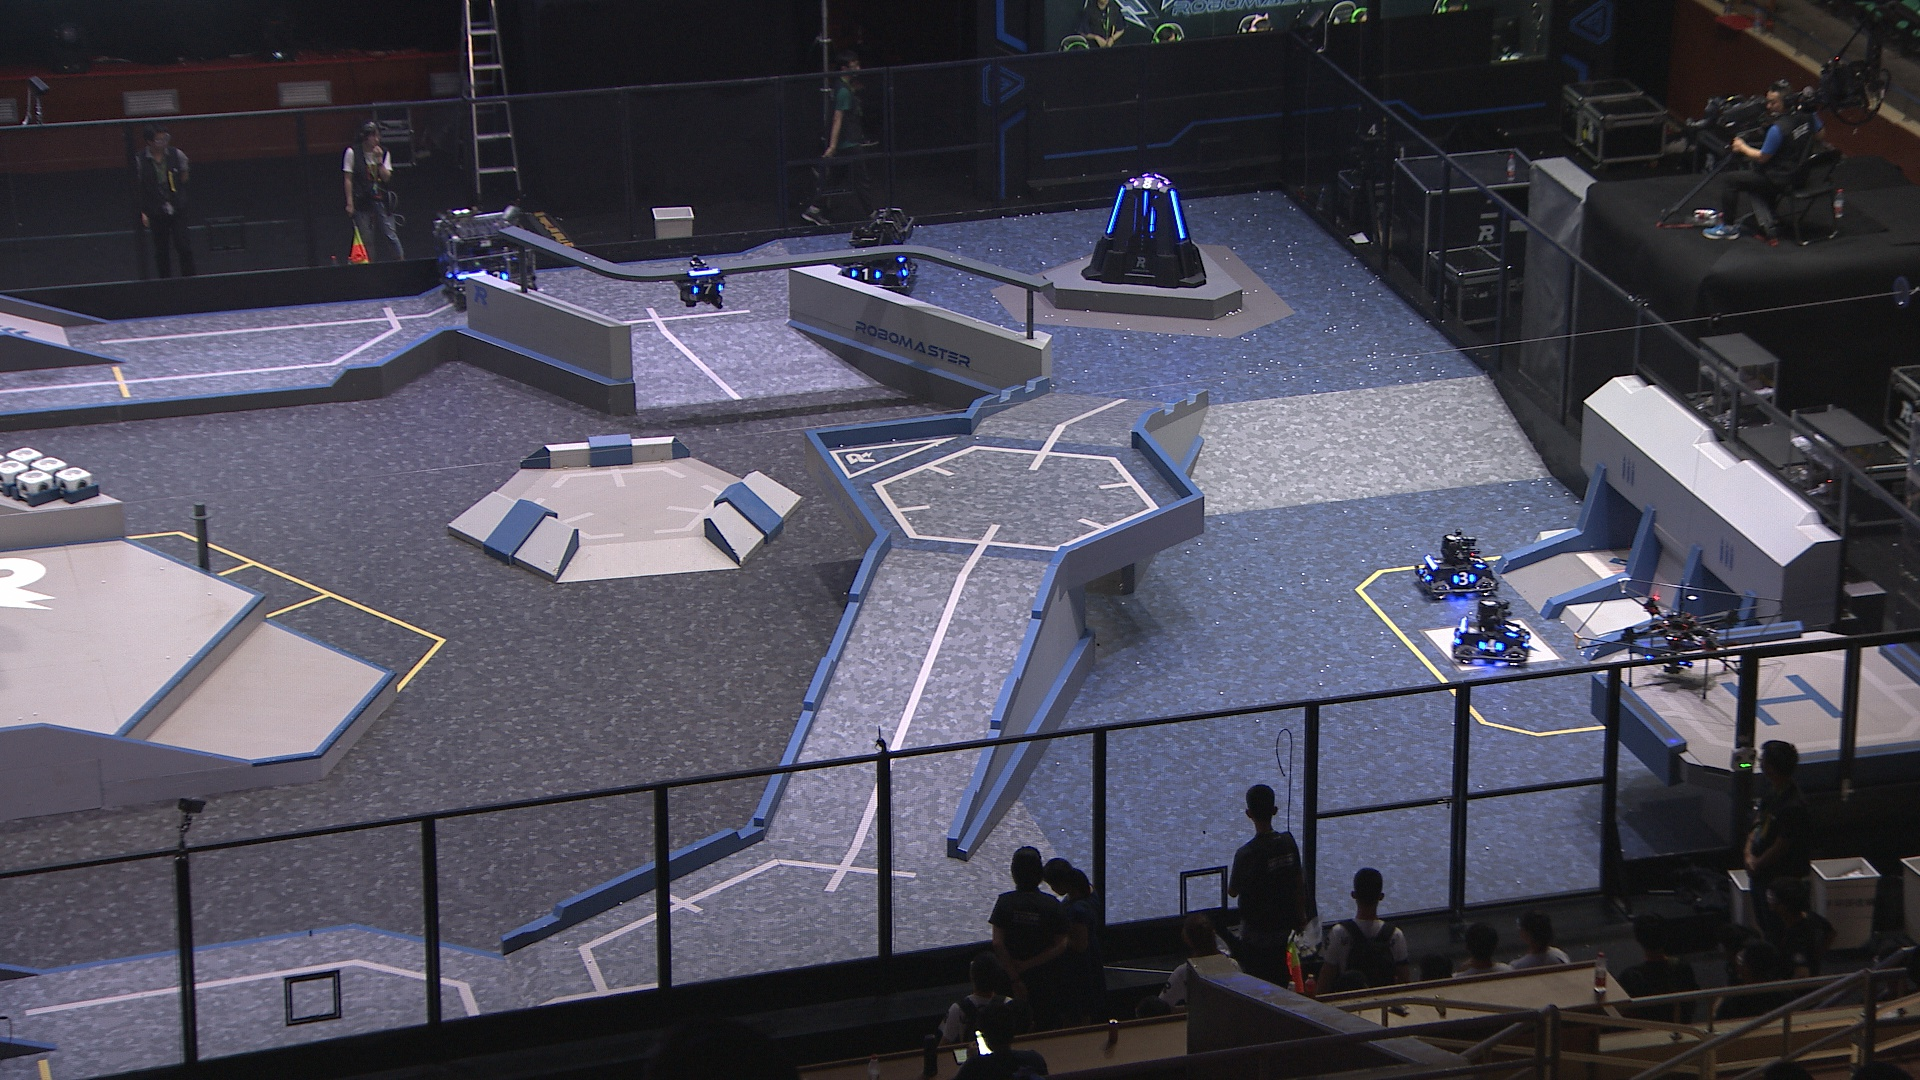armor: (1168, 189, 1185, 239), (847, 264, 884, 281), (1476, 637, 1503, 655), (485, 268, 510, 286), (1451, 570, 1477, 585), (692, 281, 723, 294), (1468, 553, 1485, 570), (1505, 618, 1519, 637), (1139, 190, 1149, 219), (1147, 204, 1156, 233), (1416, 566, 1429, 584), (899, 258, 913, 276), (442, 266, 456, 281)
base: (1077, 166, 1205, 291)
car: (433, 204, 543, 310), (836, 207, 920, 295), (1411, 527, 1501, 600), (1448, 597, 1528, 670)
ignore: (1133, 174, 1164, 187)
watcher: (674, 255, 727, 309)
